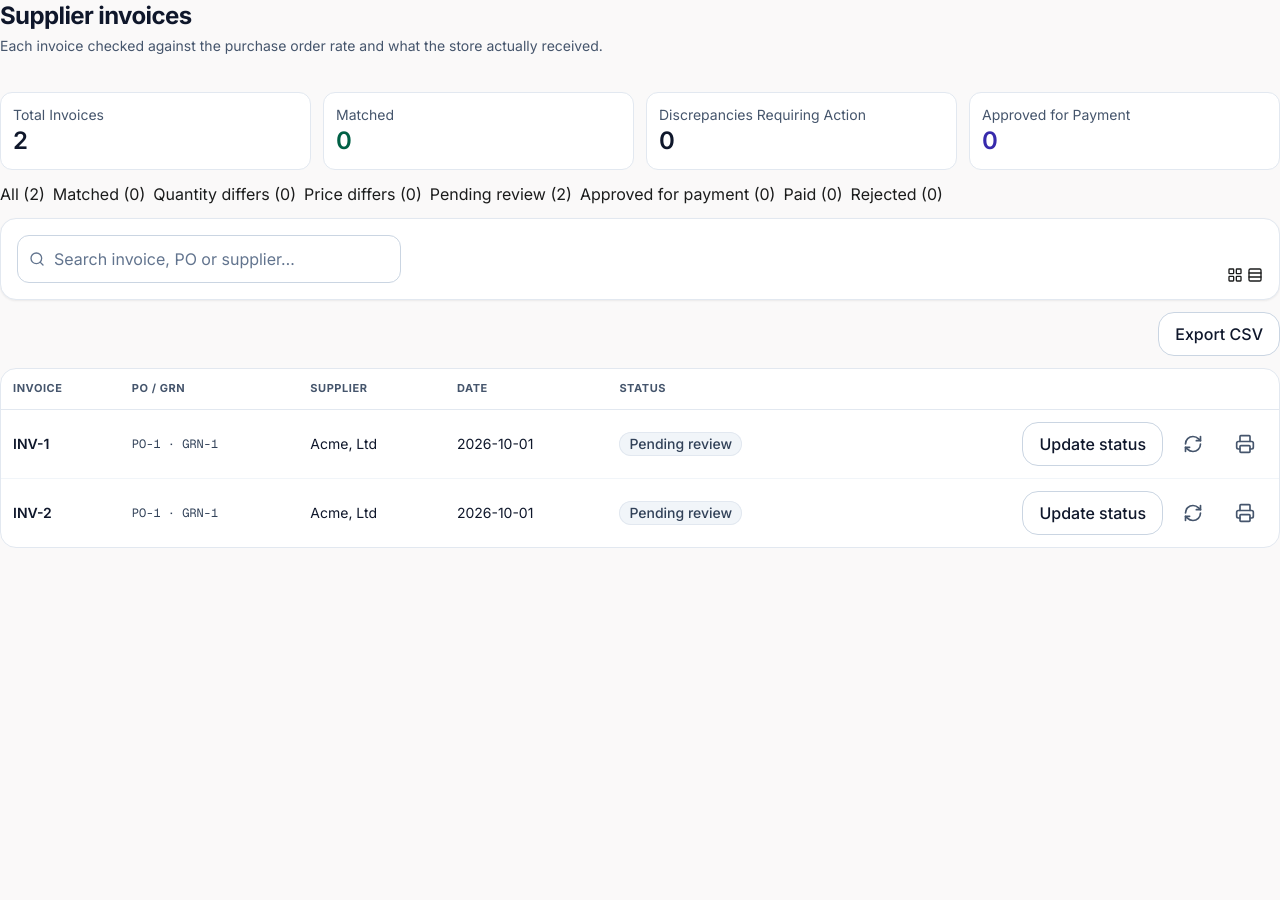
Test: R2-375 compact table › table cells hold no text inputs; Update status opens a dialog with the controls
Click the button "Update status" in the row of "INV-1" at [1093, 444], box [1022,422,1163,466]
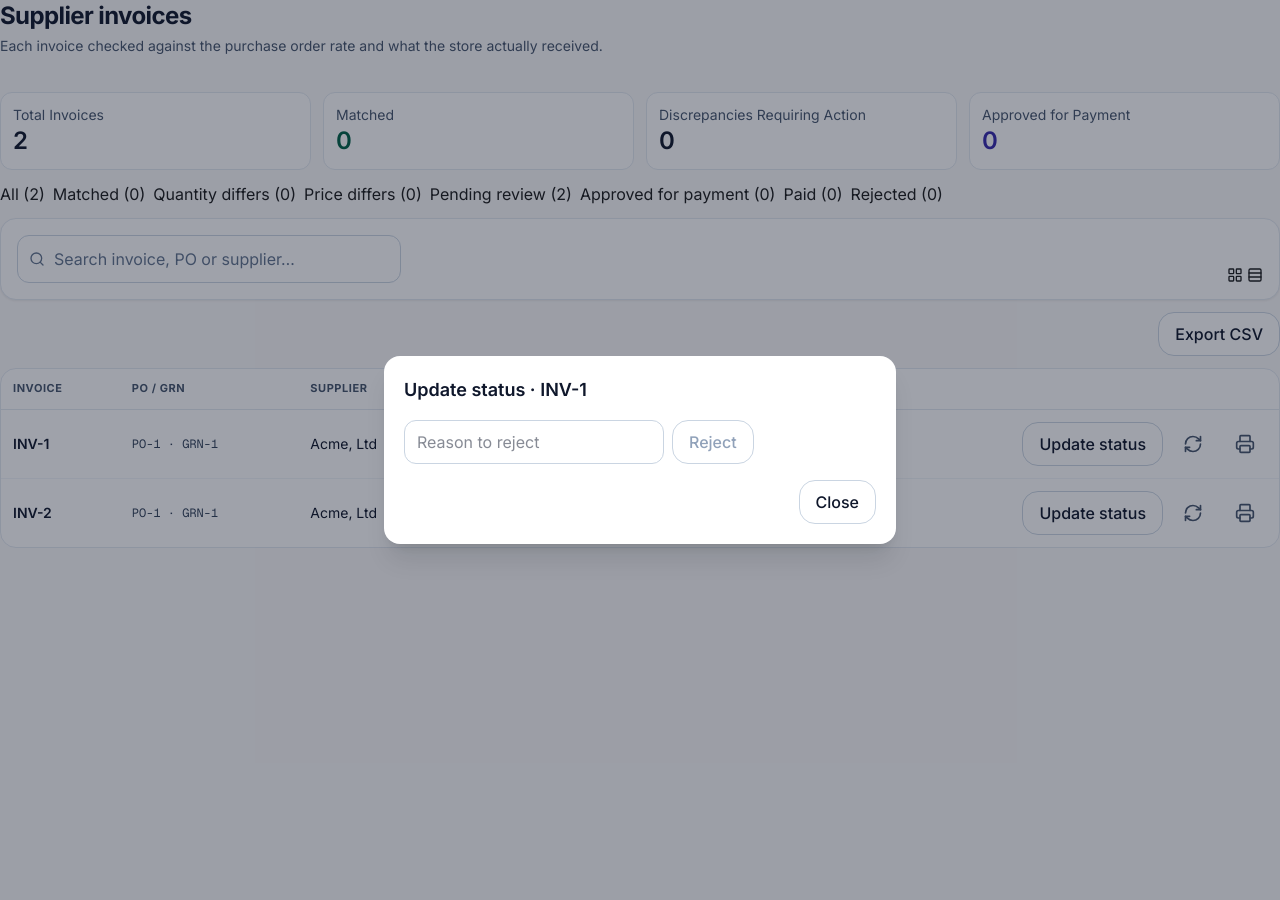
expect the field labelled "Reject reason" is shown: met, box [404,420,664,464]
